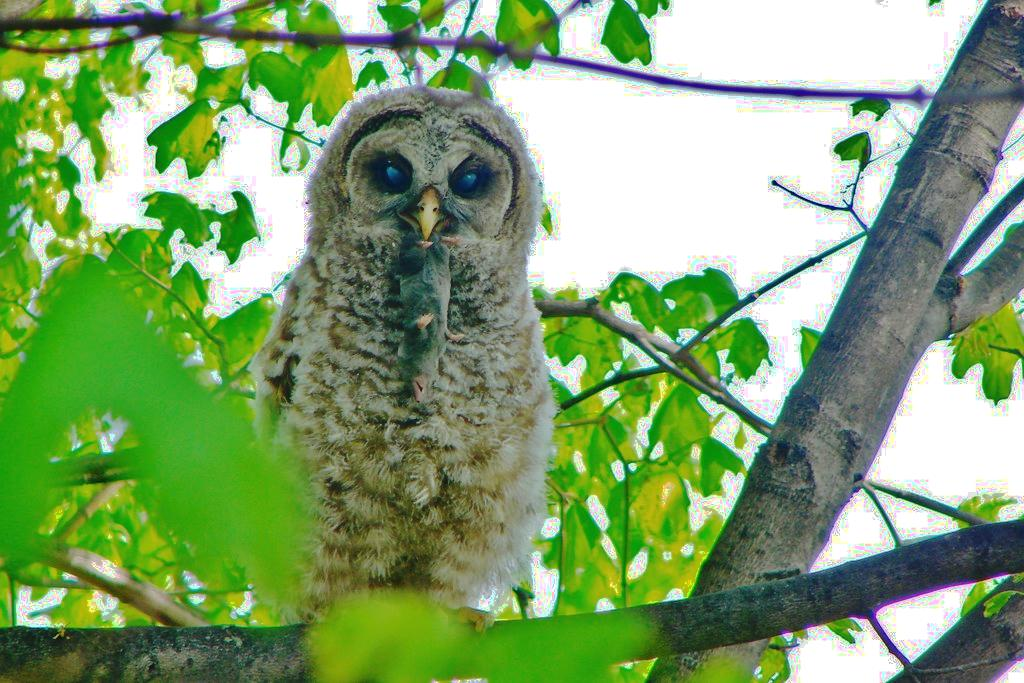Owl: (240, 75, 558, 630)
